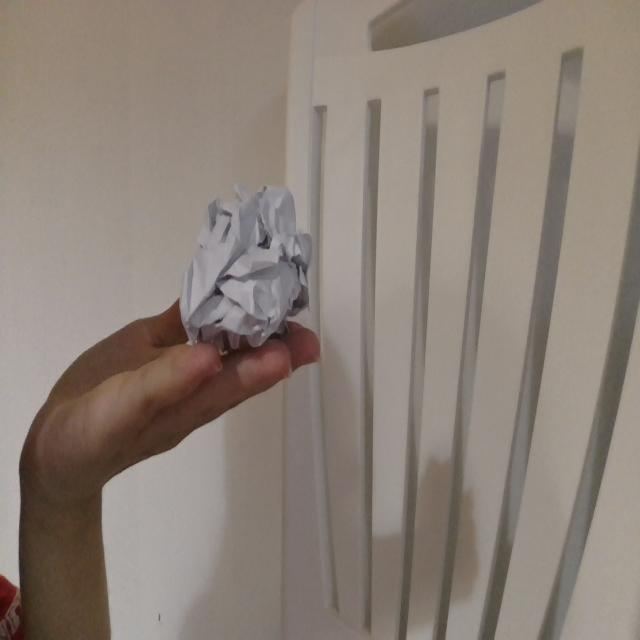crumpled_paper: (179, 176, 314, 352)
